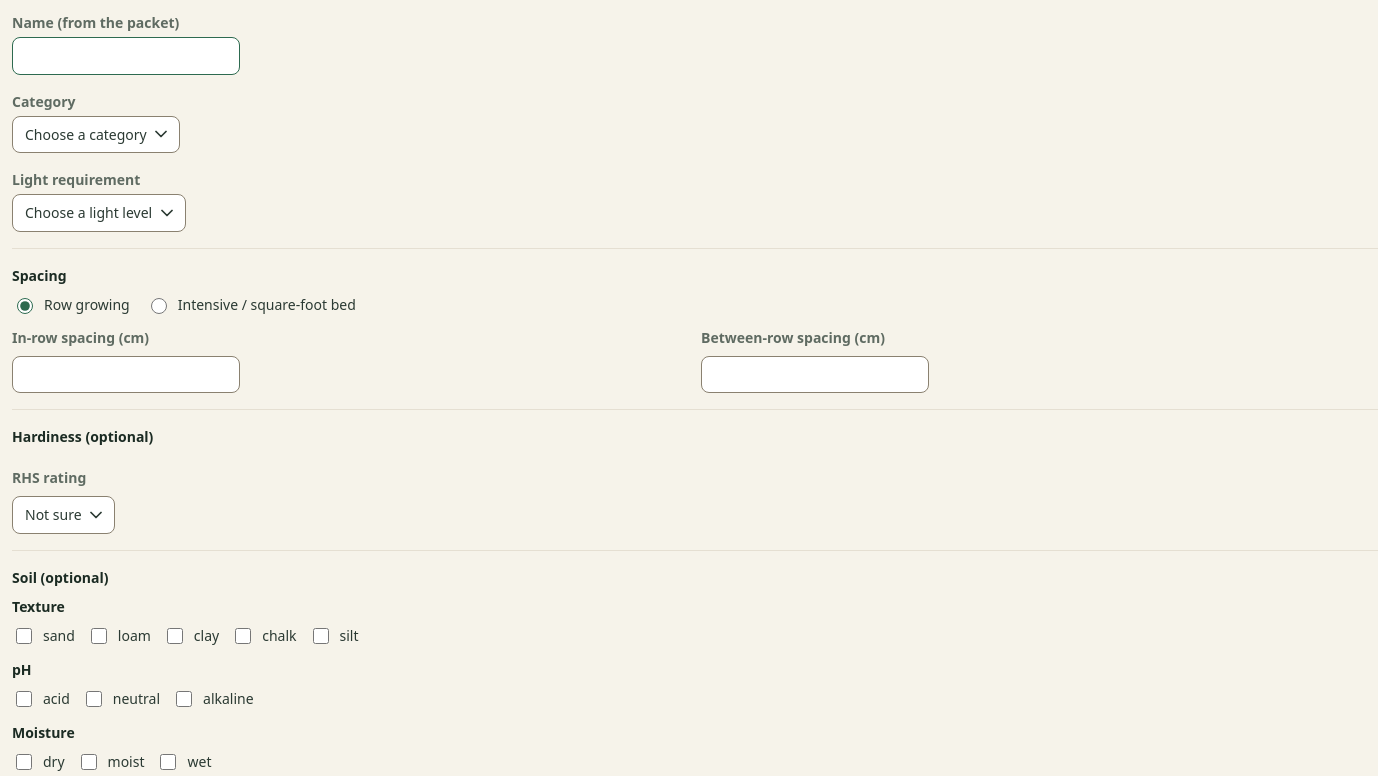
it: AddCropForm › previews the id it is about to mint as the name is typed
Type "Radish 'Cherry Belle'" into the field labelled "Name (from the packet)" at (126, 56), box [12,37,240,75]
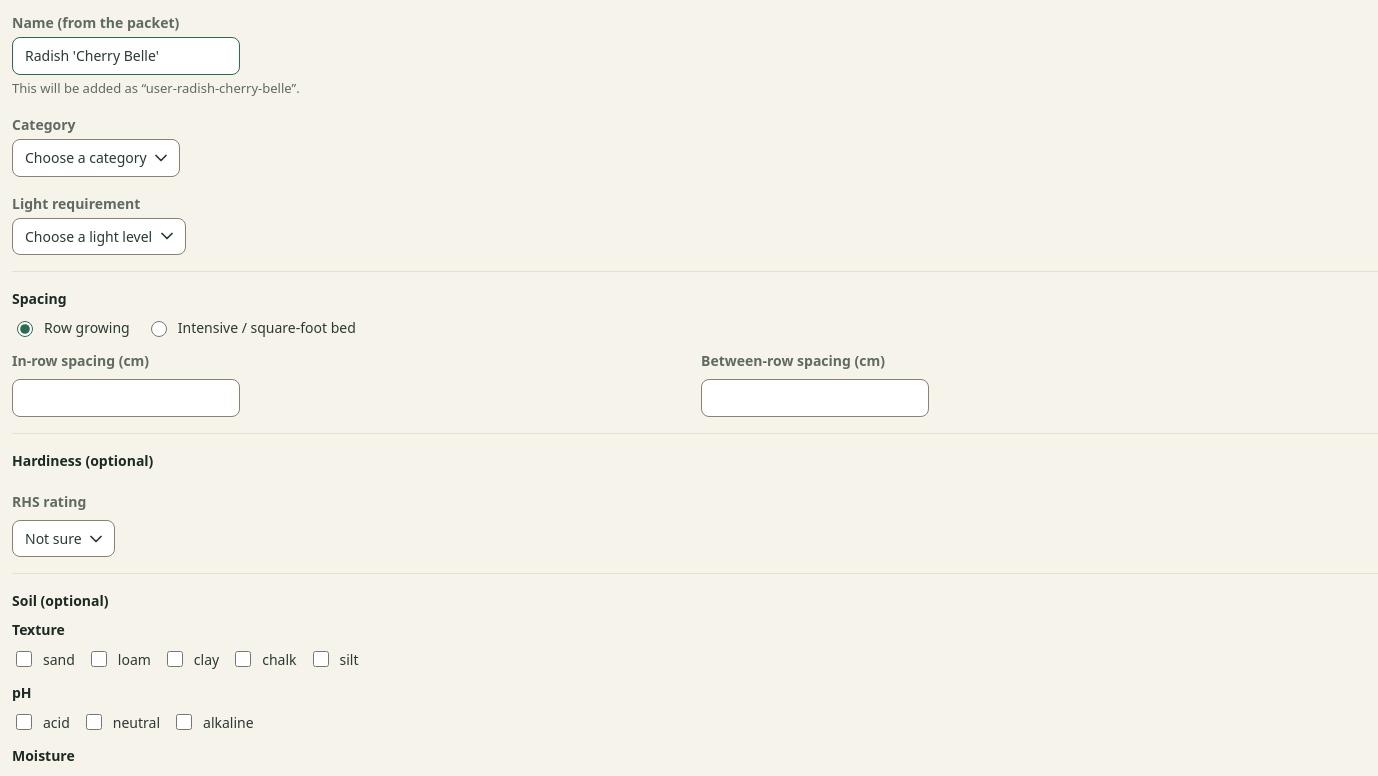
Result: the text "This will be added as “user-radish-cherry-belle”." is shown at [12,79,300,98]
